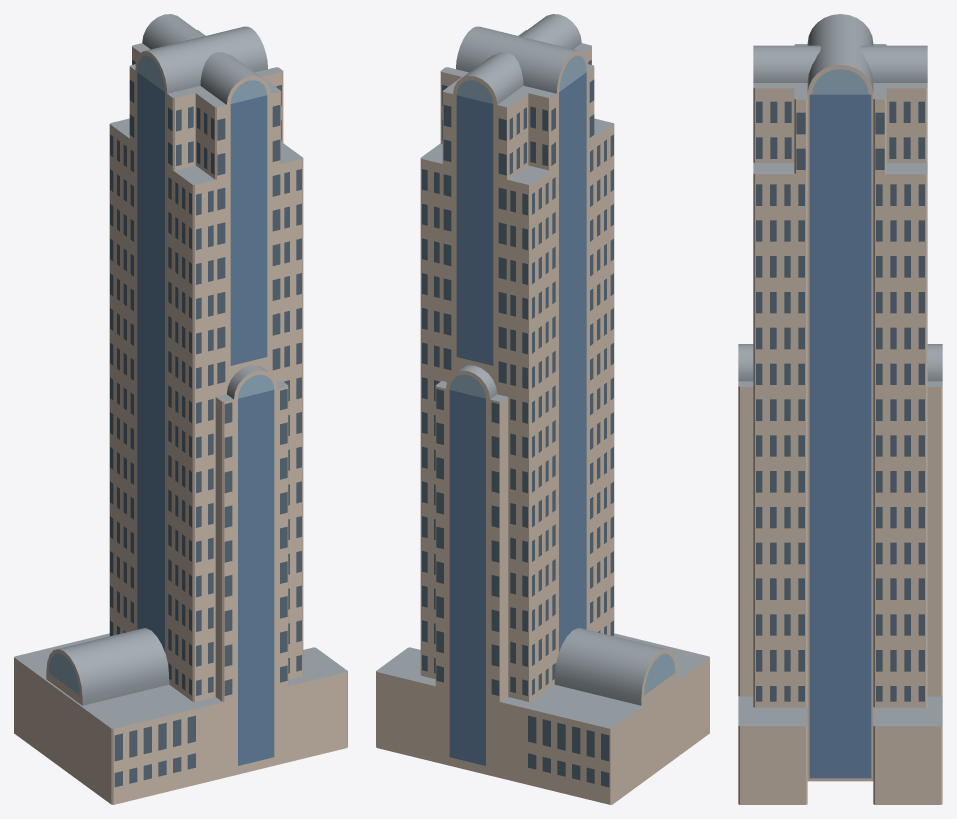
The model's file is dal-comerica-bank-tower.glb.
The picture shows the model from 3 angles, left to right: view 1: azimuth 30°, elevation 25°; view 2: azimuth 150°, elevation 25°; view 3: azimuth 270°, elevation 25°; orthographic projection. The views are drawn at different scales.
Parts seen in each view (by area): view 1: Comerica Bank Tower; view 2: Comerica Bank Tower; view 3: Comerica Bank Tower.
Part boxes in pixels (x1,y1,x2,y2): Comerica Bank Tower: (14, 14, 347, 804); Comerica Bank Tower: (376, 14, 709, 804); Comerica Bank Tower: (738, 14, 942, 804).
Size of the model in its own units: 85.5 by 240 by 62.16.
